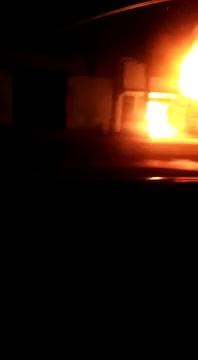fire: (142, 41, 196, 137)
